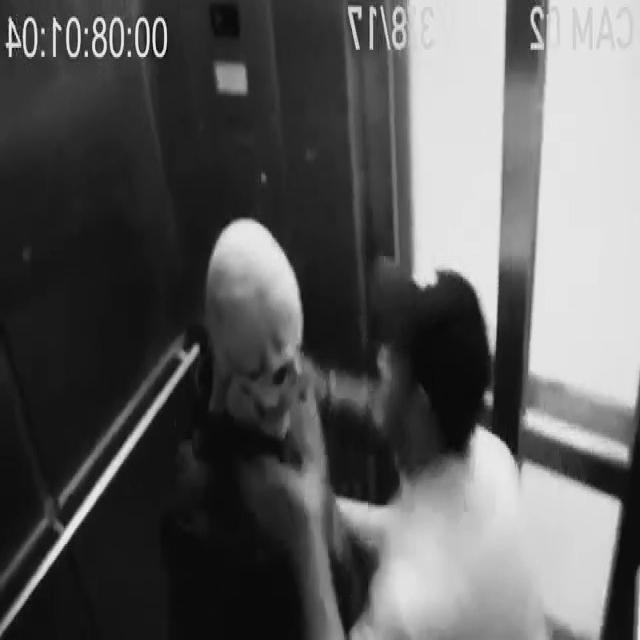fight: (167, 212, 528, 640)
